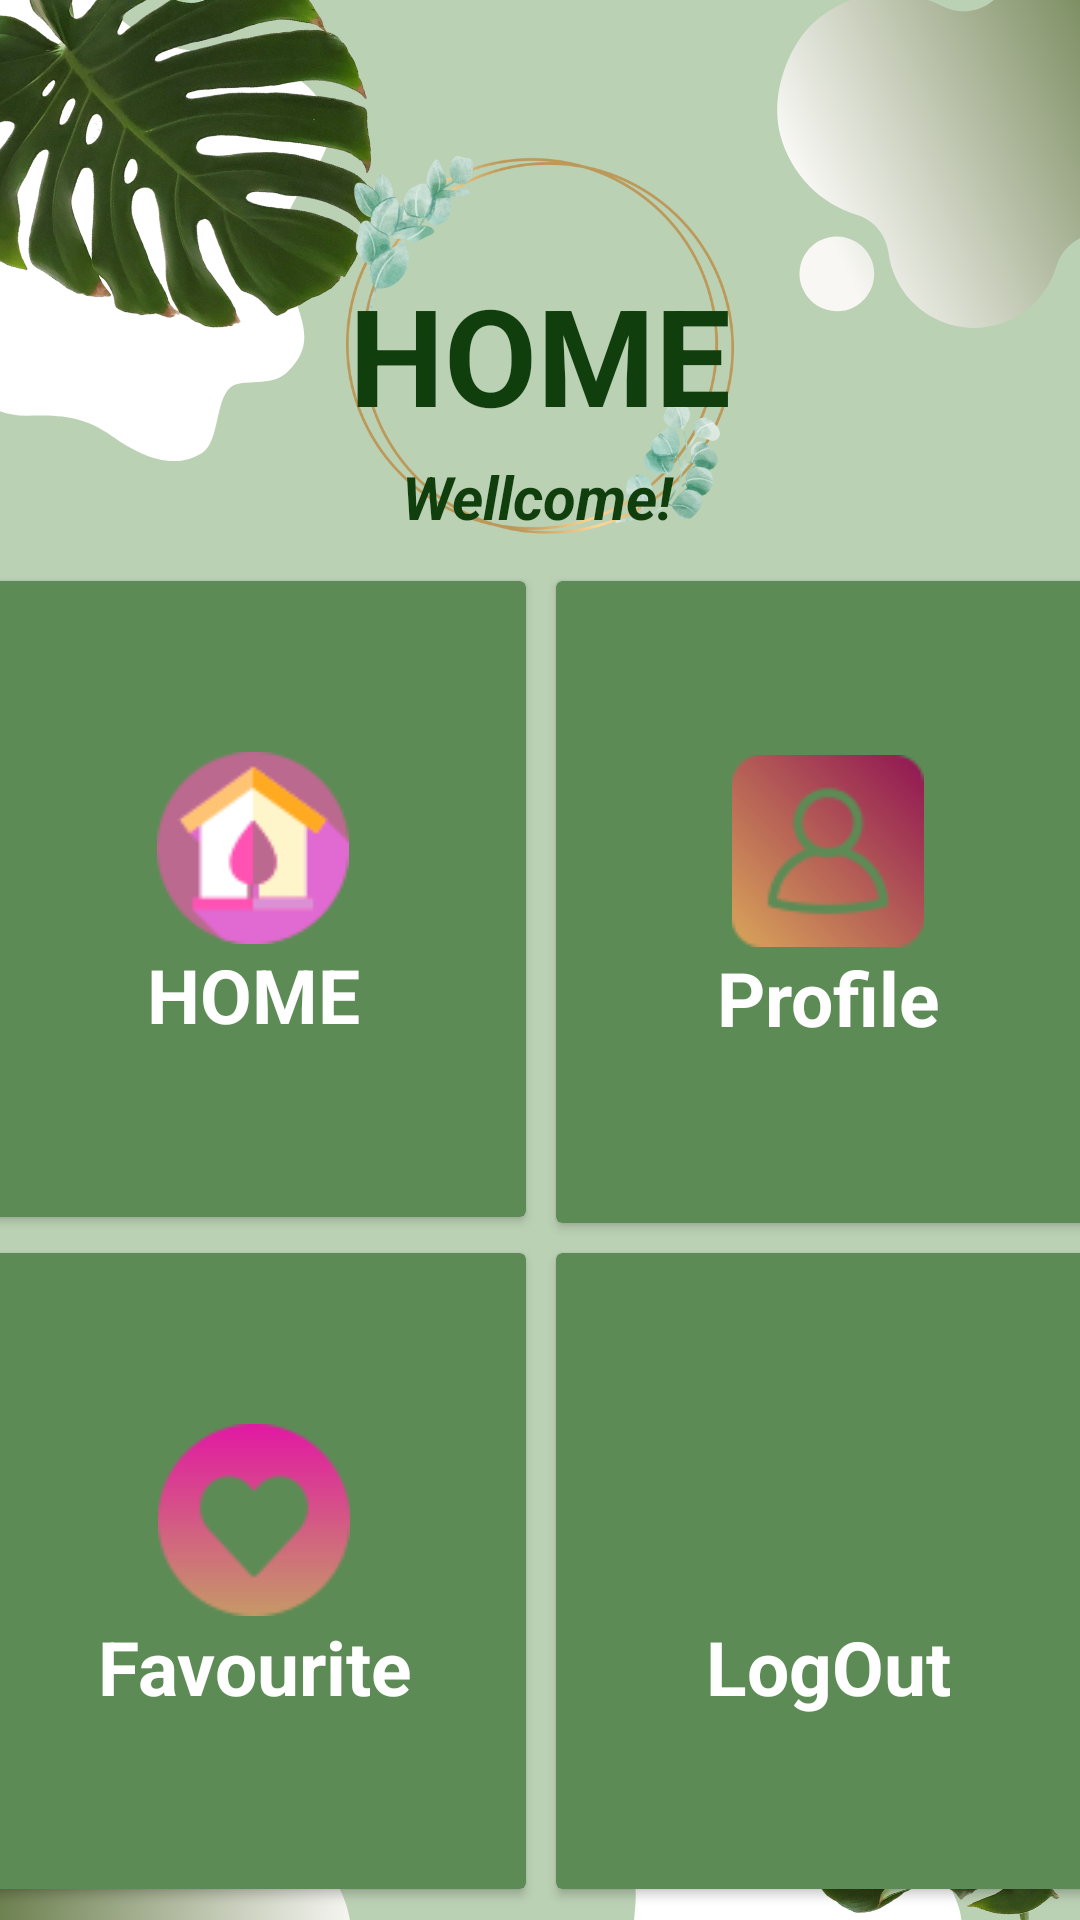

Screen size 1080px×1920px. Icon name, then its box in pixels as Rect(x1, y1, x2, y2):
user: Rect(732, 755, 924, 947)
